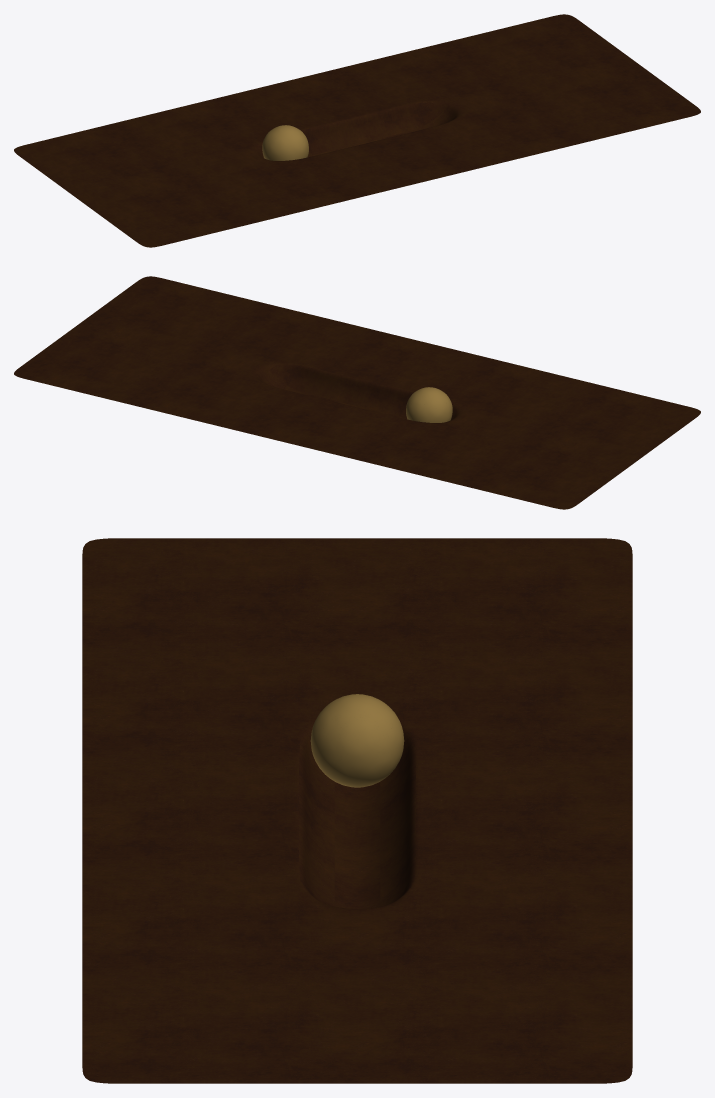
File: 3D Sphere Metronome.glb
3 renders of one model, top to bottom at view 1: azimuth 30°, elevation 25°; view 2: azimuth 150°, elevation 25°; view 3: azimuth 270°, elevation 25°, orthographic. The views are drawn at different scales.
Visible parts, largest first — view 1: Plane.001, Icosphere.001; view 2: Plane.001, Icosphere.001; view 3: Plane.001, Icosphere.001.
Boxes of the visible parts, box(x1,y1,x2,y2) form: Plane.001: box(14, 14, 700, 247); Icosphere.001: box(262, 125, 308, 160); Plane.001: box(14, 276, 700, 509); Icosphere.001: box(406, 387, 452, 422); Plane.001: box(82, 538, 632, 1083); Icosphere.001: box(310, 694, 404, 787).
Bounding box in the file's own units: 14.09 × 1.04 × 6.01.
Materials: 2 (2 with a texture image).
